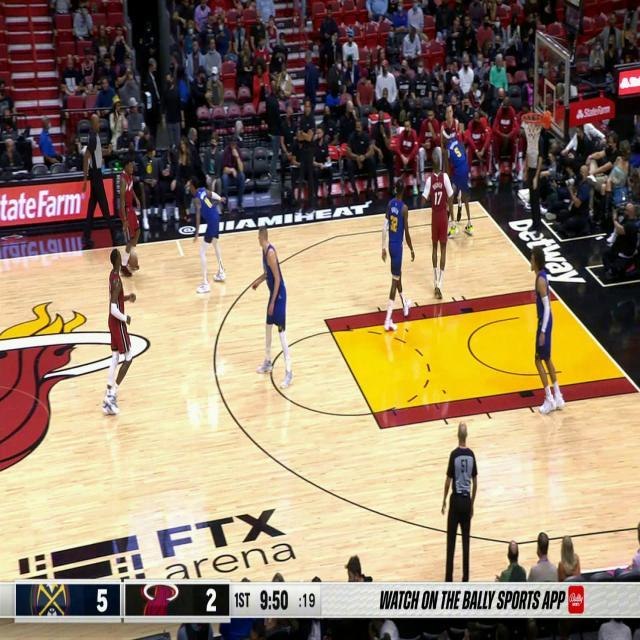rim: (127, 253, 138, 270)
